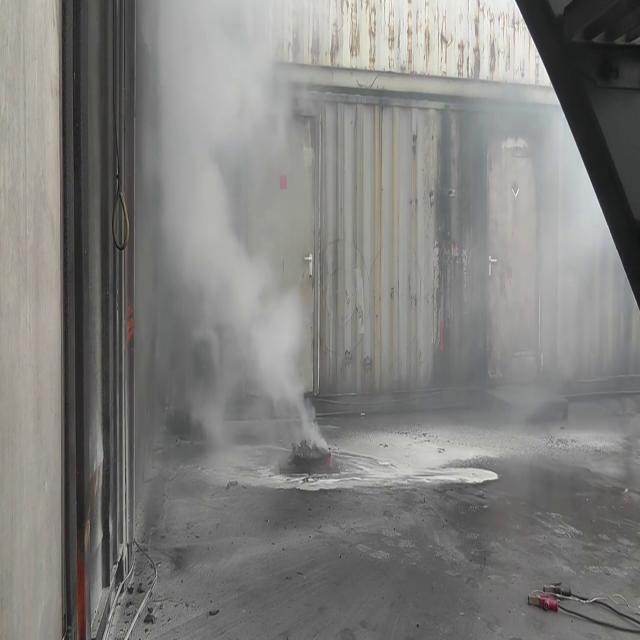Smoke: (134, 1, 331, 470)
